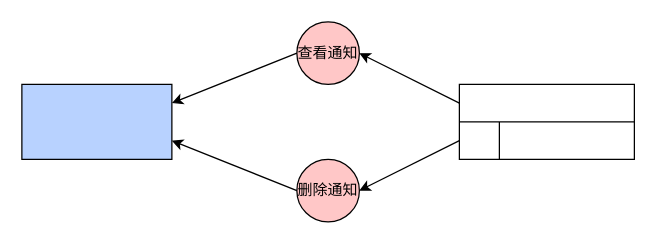
This 656x244 diagram has some shape labels left out. The shapes that lost their labels are listed below. From the top down, each one's centre as x and y in pixels, then its label:
the point at 96,121: 通知
the point at 546,121: 通知表
